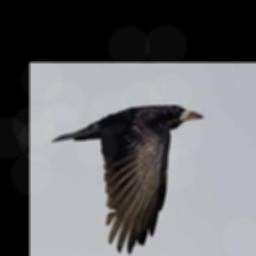Crow: (52, 104, 204, 252)
